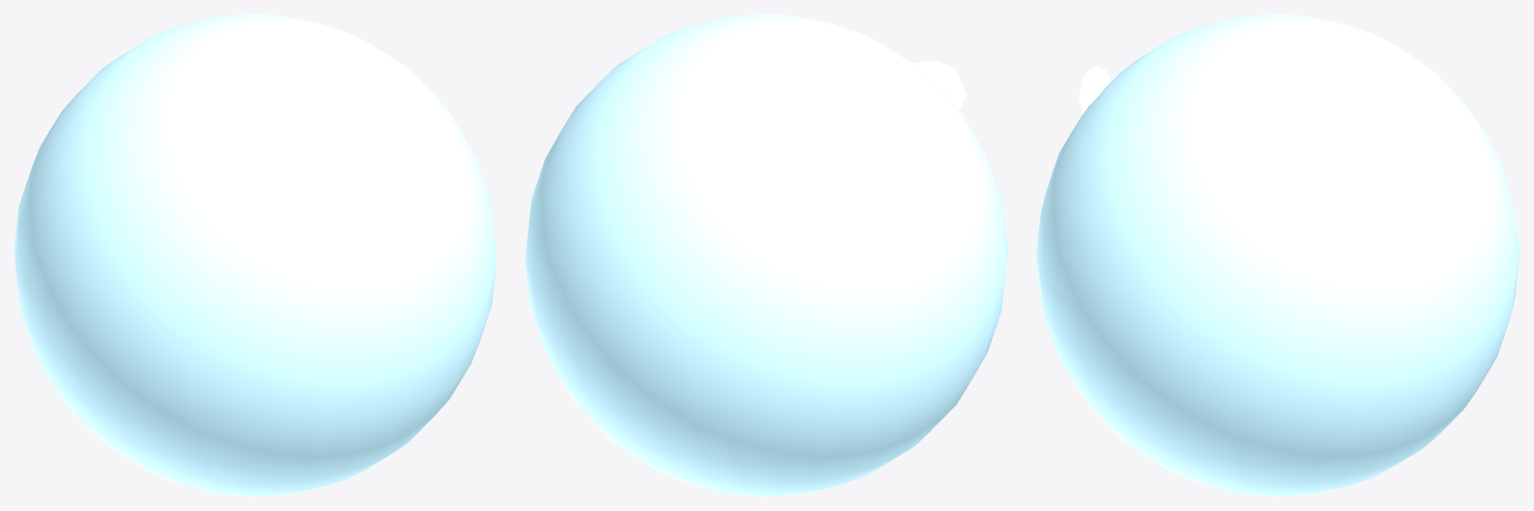
The model's file is G03_Oxygen_Bubble.glb.
3 views of the same model, side by side, from view 1: azimuth 30°, elevation 25°; view 2: azimuth 150°, elevation 25°; view 3: azimuth 270°, elevation 25° (orthographic).
Visible parts, largest first — view 1: G03_Oxygen_Bubble_Mesh; view 2: G03_Oxygen_Bubble_Mesh; view 3: G03_Oxygen_Bubble_Mesh.
Part boxes in pixels (bbox=[...]): G03_Oxygen_Bubble_Mesh: bbox=[14, 14, 496, 496]; G03_Oxygen_Bubble_Mesh: bbox=[525, 14, 1007, 496]; G03_Oxygen_Bubble_Mesh: bbox=[1036, 14, 1519, 496].
Bounding box in the file's own units: 0.8 × 0.8 × 0.8.
